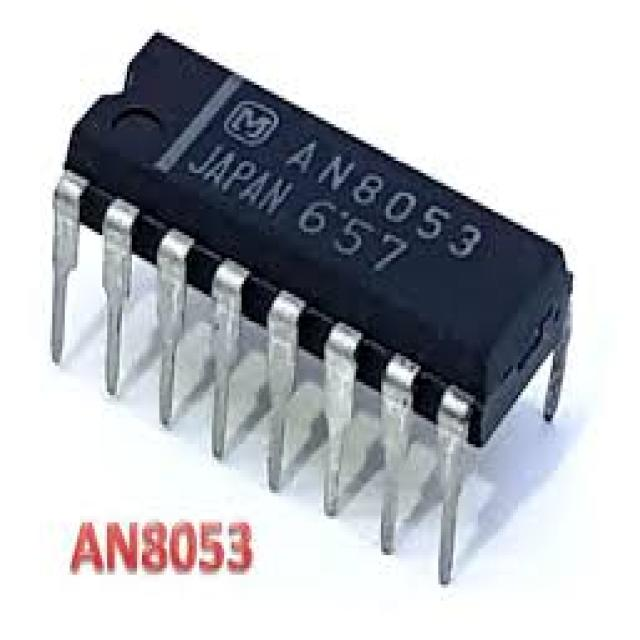IC: (49, 34, 597, 584)
